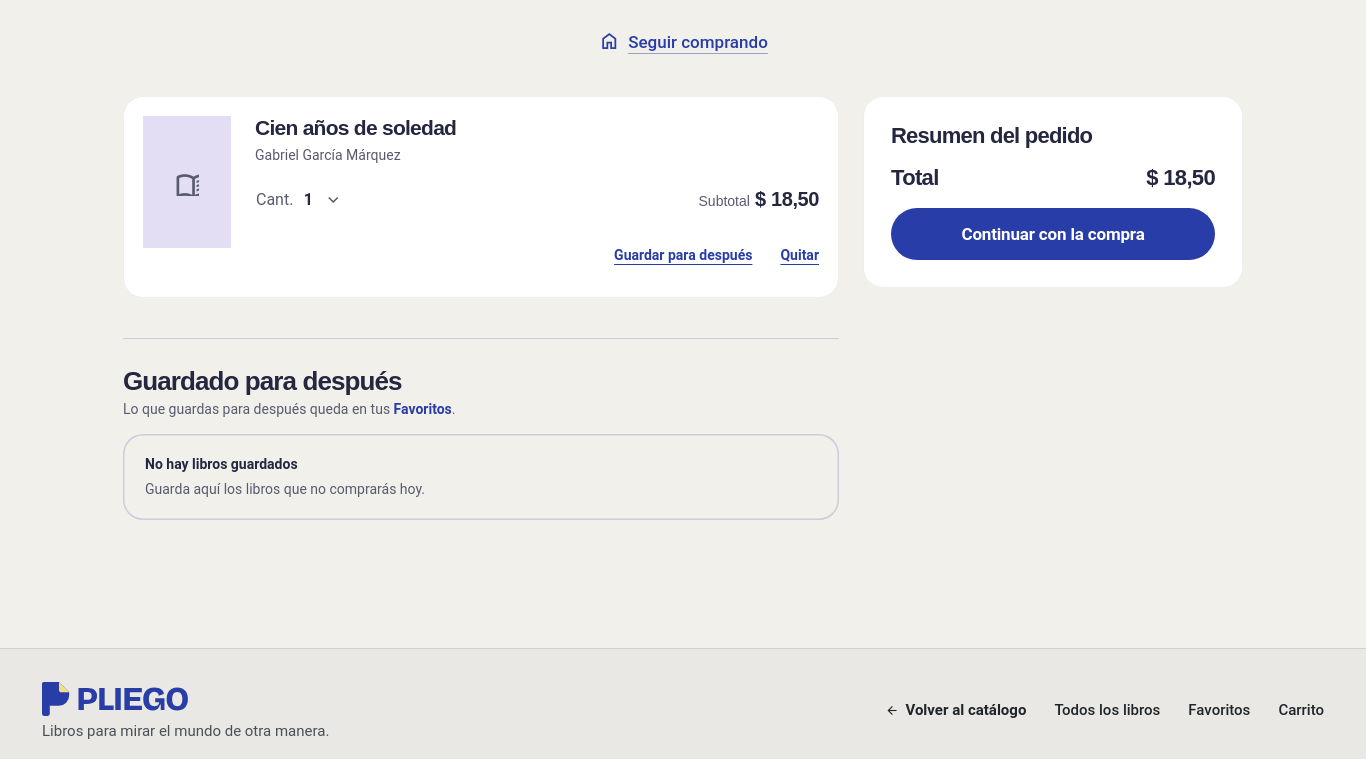
Test: CartPage › sets an absolute quantity with PUT and shows the refreshed server state
This screenshot has width=1366, height=759.
Click the dropdown named "Cantidad de Cien años de soledad".
click(298, 200)  # box [245, 178, 350, 222]
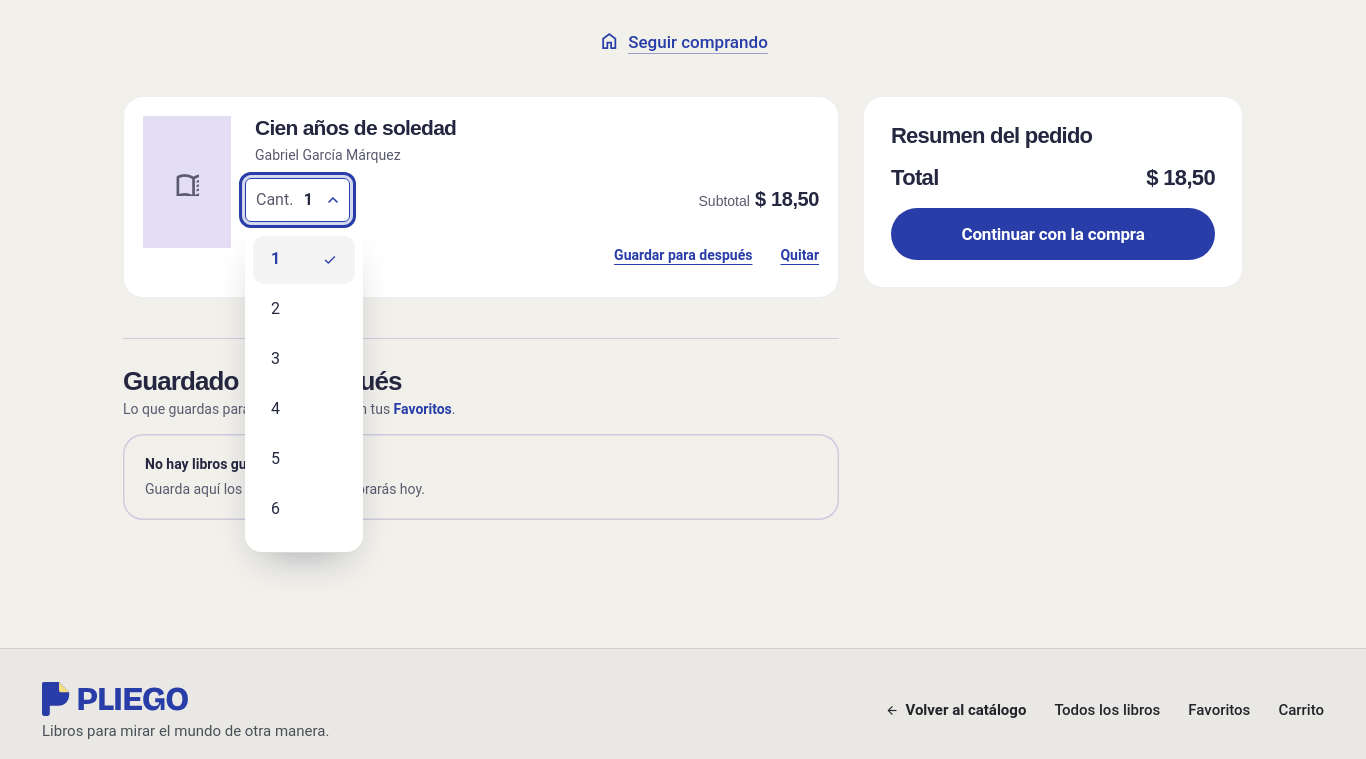
Click the option "4".
click(276, 409)  # box [271, 399, 280, 418]
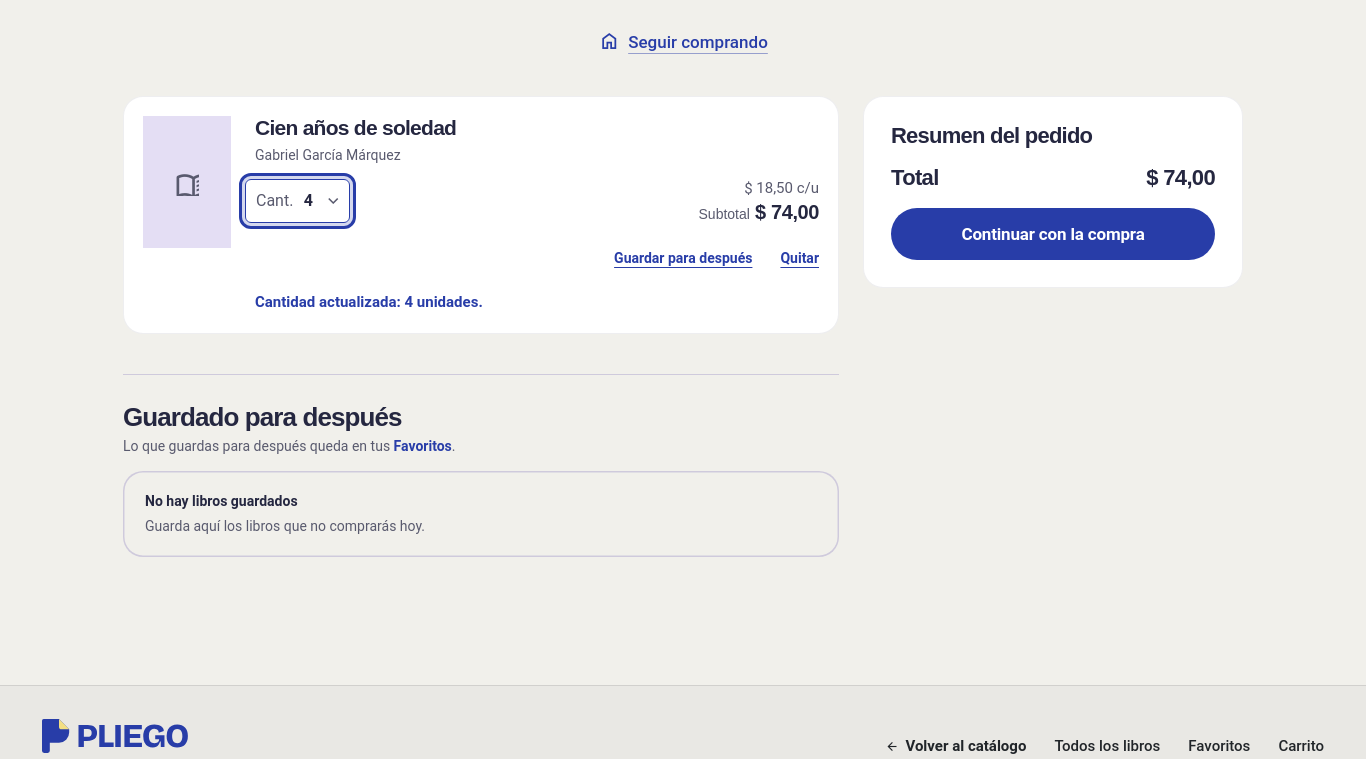
Expected: the text "Cantidad actualizada: 4 unidades." is shown, [255, 293, 483, 311]
Expected: the dropdown named "Cantidad de Cien años de soledad" shows "4", [245, 179, 350, 223]
Expected: the option is gone
